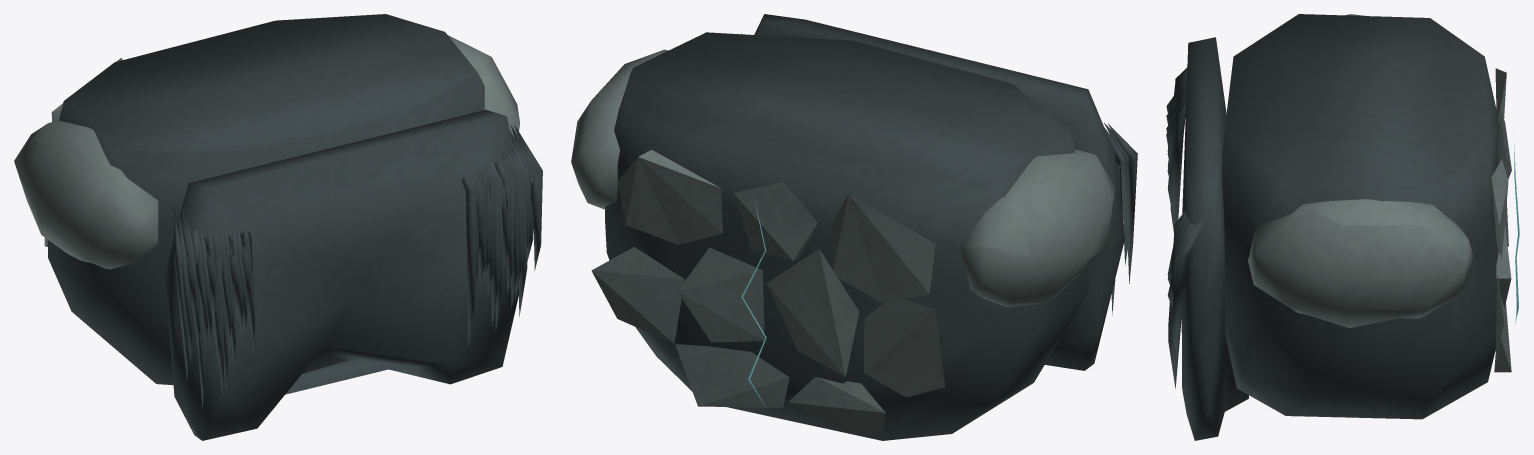
Rendered from chest_lod2.glb.
The picture shows the model from 3 angles, left to right: view 1: azimuth 30°, elevation 25°; view 2: azimuth 150°, elevation 25°; view 3: azimuth 270°, elevation 25°; orthographic projection. The views are drawn at different scales.
Parts seen in each view (by area): view 1: dormin_chest_LOD2; view 2: dormin_chest_LOD2; view 3: dormin_chest_LOD2.
Part boxes in pixels (left/top/right/bottom): dormin_chest_LOD2: left=14, top=14, right=542, bottom=440; dormin_chest_LOD2: left=571, top=14, right=1137, bottom=440; dormin_chest_LOD2: left=1166, top=14, right=1519, bottom=440.
Bounding box in the file's own units: 5.49 × 2.99 × 3.63.
3 materials, 2 textured.
